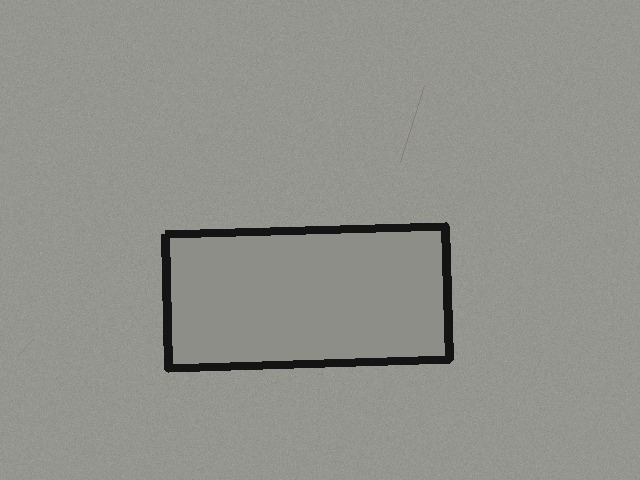parking_area: (165, 226, 449, 368)
